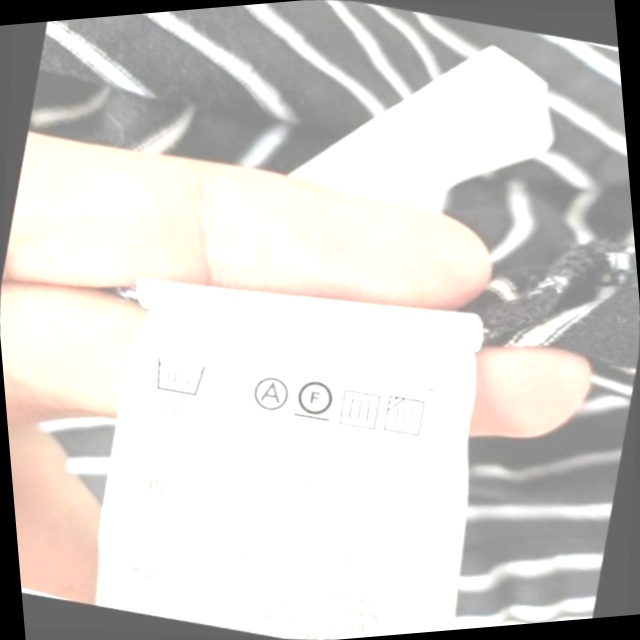95C: (146, 348, 214, 404)
bleach: (203, 359, 251, 411)
drip_dry: (332, 381, 389, 436)
drip_dry_in_shade: (378, 388, 436, 445)
dry_clean: (245, 369, 295, 417)
dry_clean_petrol_only: (289, 370, 342, 427)
